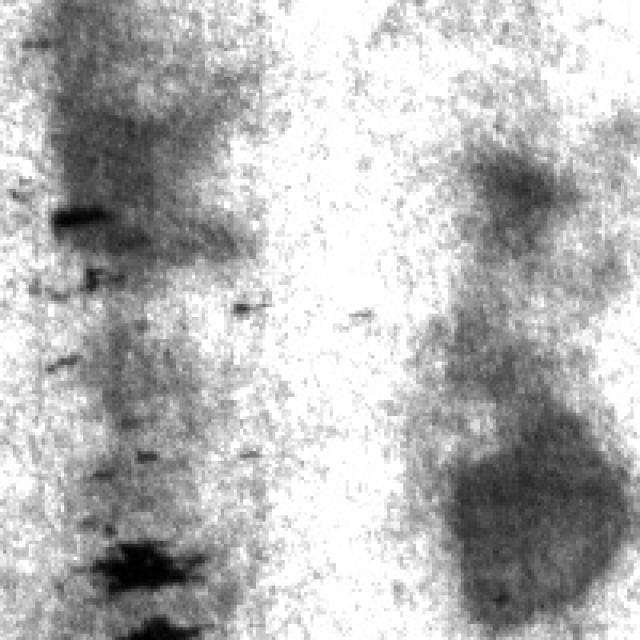inclusion: (86, 532, 212, 630)
patches: (42, 16, 236, 301), (445, 365, 640, 627), (476, 134, 586, 260)
